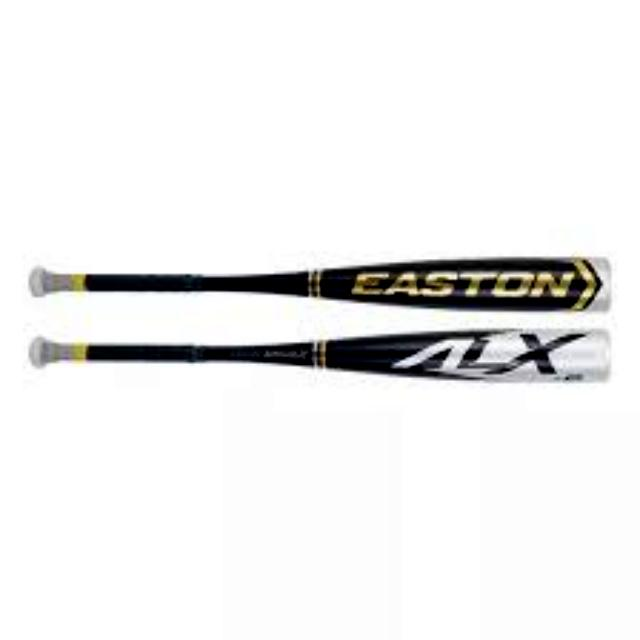baseball bat: (26, 254, 612, 312), (26, 326, 612, 382)
